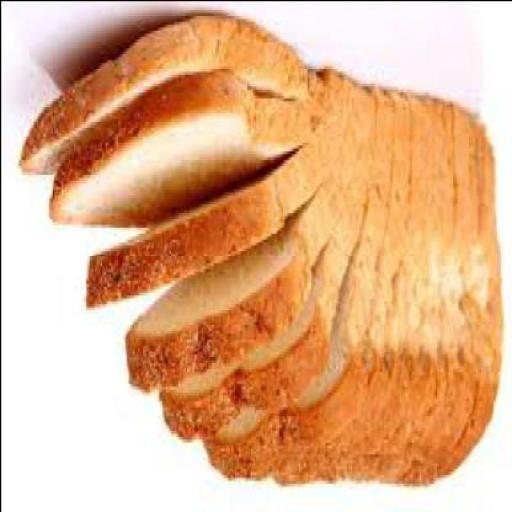biodegradable: (267, 100, 500, 488), (156, 88, 388, 441), (202, 94, 407, 483), (120, 82, 370, 392), (81, 68, 350, 315), (16, 18, 303, 183), (46, 70, 306, 230)
